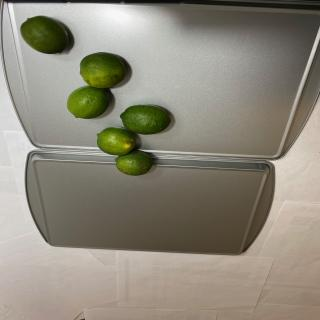Chilli: (20, 15, 69, 54)
Lemon: (79, 52, 126, 88), (120, 104, 171, 135), (66, 86, 110, 120), (96, 126, 136, 156), (114, 150, 153, 176)
